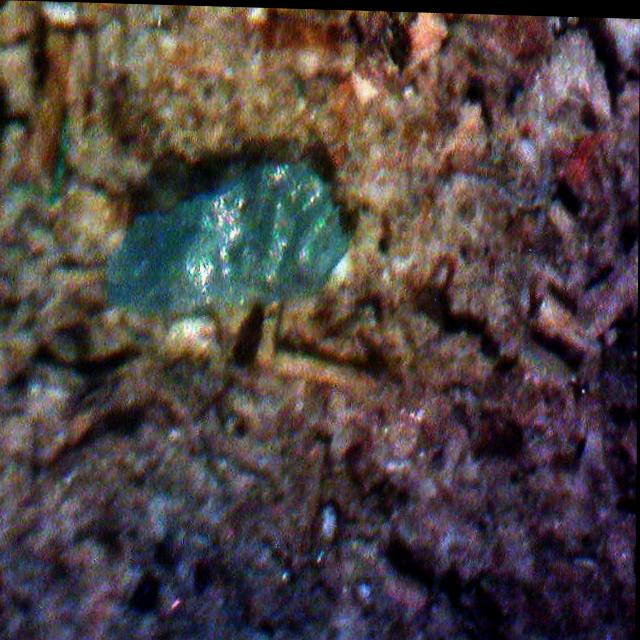microplastic: (106, 159, 350, 312)
